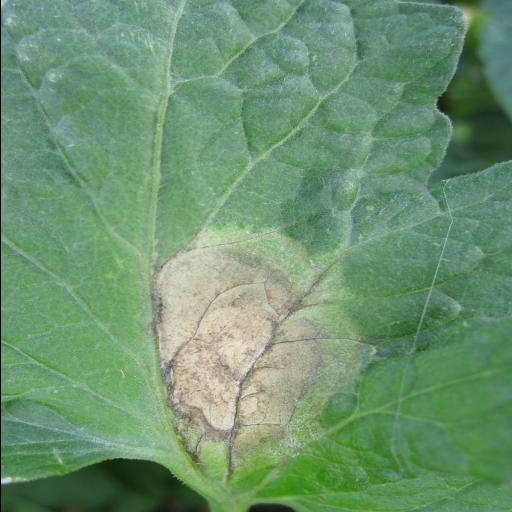disease_tomato: (16, 4, 504, 508)
